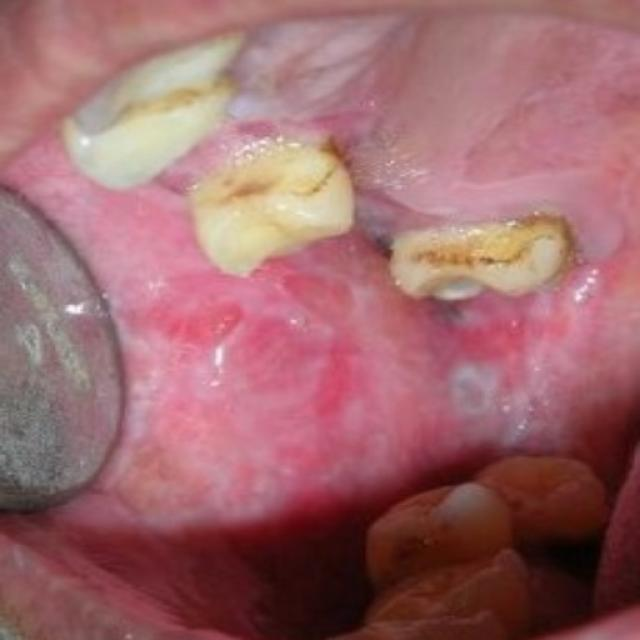cancer-detection: (228, 2, 639, 453)
processing_area: (0, 0, 639, 532)
